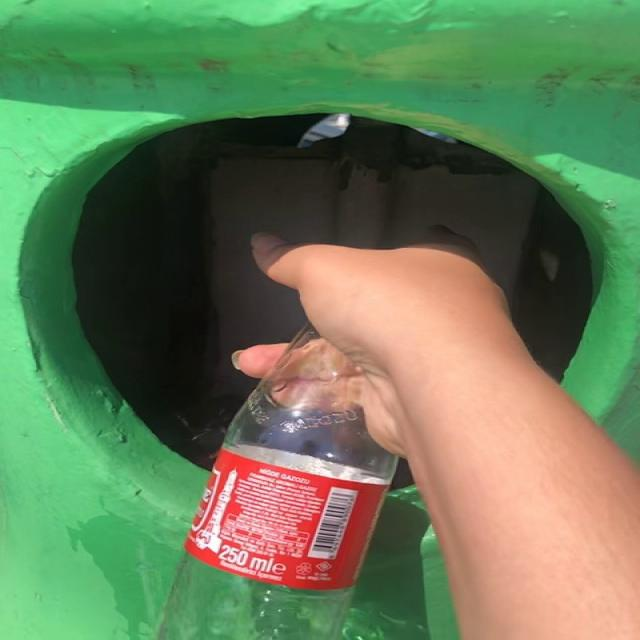glass: (161, 326, 397, 640)
